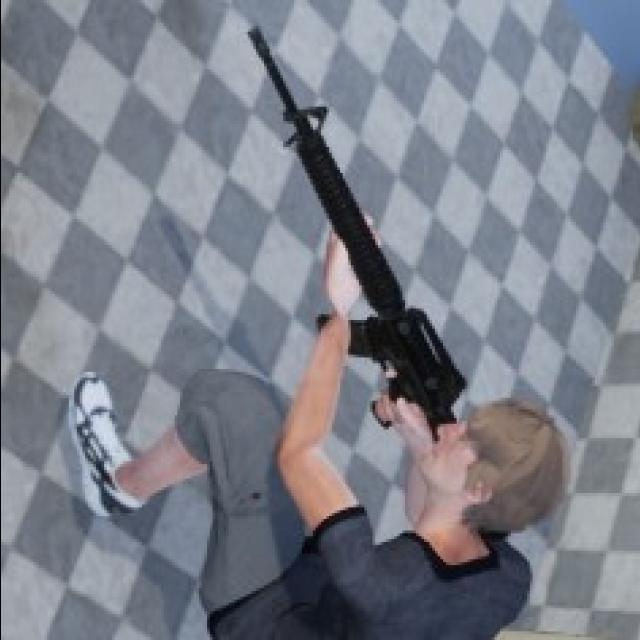rifle: (233, 24, 467, 444)
